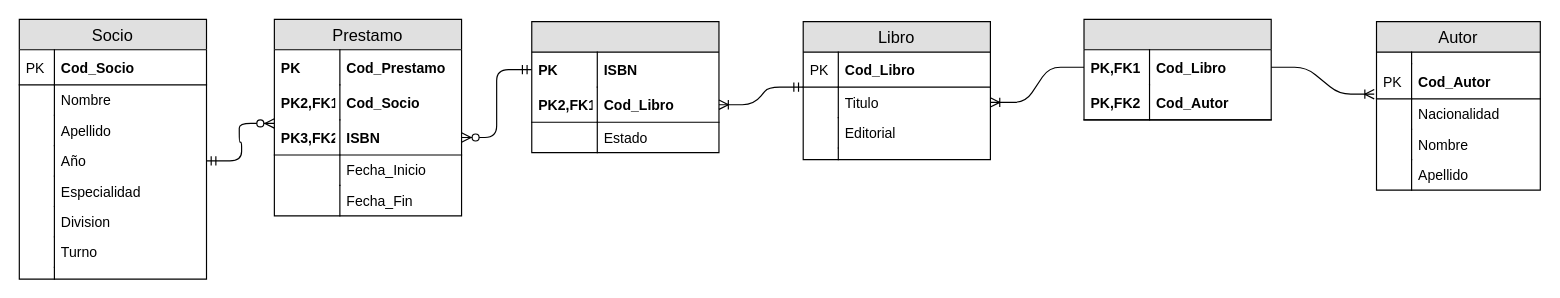
Image size: 1560x298. Some labels were removed from this diagram. The box of each missing label's shape, as (x1, y1, x2, y2) in pixels:
Ejemplar: (531, 20, 719, 153)
Libro_Autor: (1083, 18, 1271, 120)
